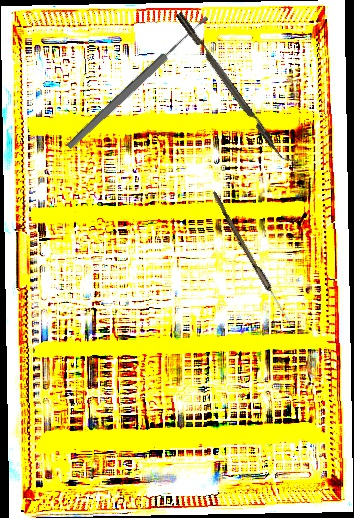Chopper: (175, 6, 297, 170)
Surgical Spoon: (64, 13, 212, 152), (209, 191, 294, 326)
